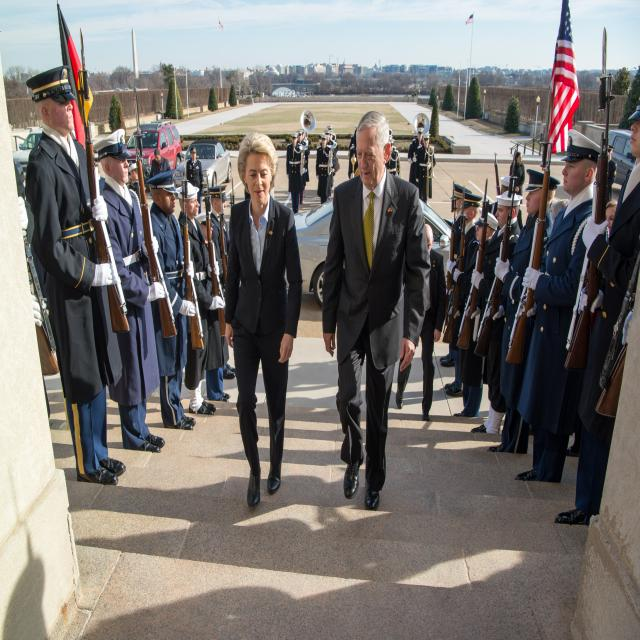body: (44, 357, 566, 580), (320, 108, 432, 515), (22, 64, 126, 485), (554, 89, 640, 525), (513, 126, 610, 488), (223, 130, 306, 510), (92, 128, 167, 454), (486, 167, 563, 460), (145, 168, 198, 433), (467, 189, 524, 435), (175, 182, 225, 415), (394, 221, 448, 424), (451, 205, 501, 422), (444, 192, 482, 398), (194, 208, 232, 404), (295, 119, 400, 185), (438, 182, 474, 369), (15, 159, 50, 336), (208, 185, 236, 380), (550, 198, 617, 231), (274, 184, 337, 217), (488, 175, 524, 232), (414, 133, 436, 205), (285, 132, 304, 214), (315, 134, 336, 206), (186, 146, 204, 214), (620, 292, 636, 358), (296, 130, 309, 205), (409, 126, 424, 188), (509, 152, 525, 204), (606, 144, 618, 207), (148, 148, 171, 180), (565, 422, 581, 465), (128, 162, 142, 211), (384, 139, 400, 177), (408, 133, 418, 185), (94, 160, 106, 196)
